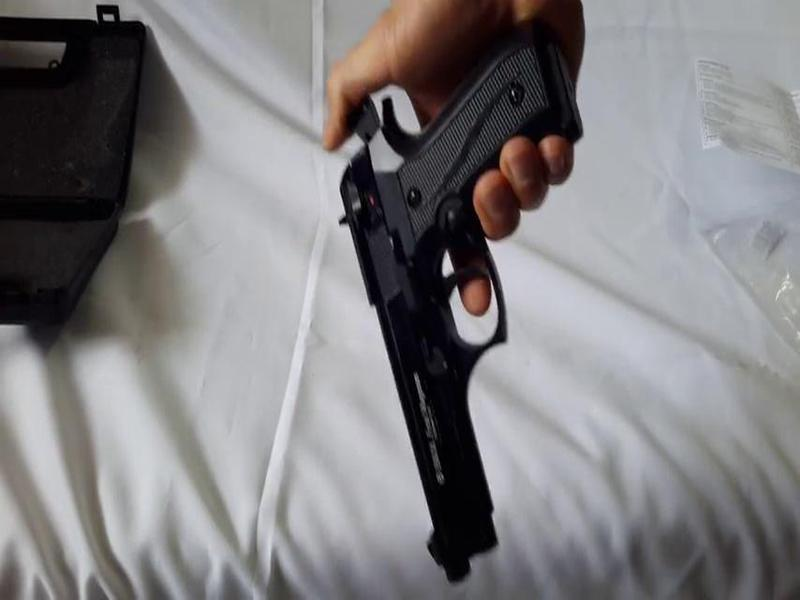Pistola: (313, 14, 601, 600)
